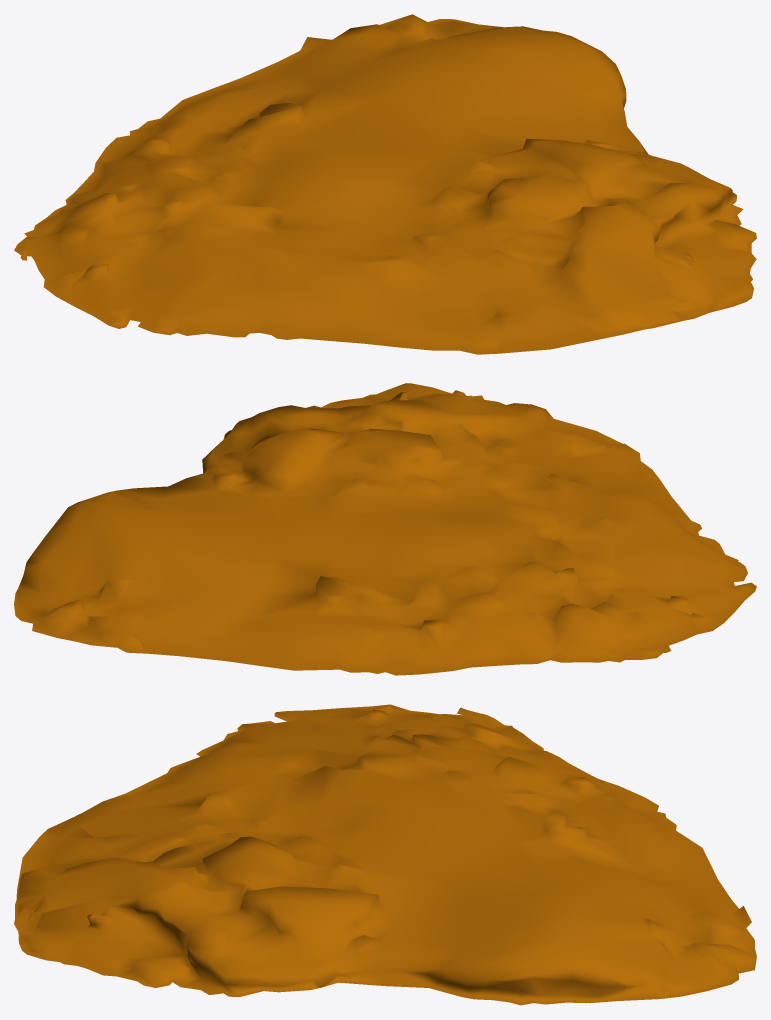
File: Mesh_Ground_05_AG.FBX
3 views of the same model, one above another, from view 1: azimuth 30°, elevation 25°; view 2: azimuth 150°, elevation 25°; view 3: azimuth 270°, elevation 25° (orthographic). The views are drawn at different scales.
Parts seen in each view (by area): view 1: MESH_LOD0; view 2: MESH_LOD0; view 3: MESH_LOD0.
Boxes of the visible parts, x1,y1,x2,y2 form: MESH_LOD0: [14, 14, 756, 354]; MESH_LOD0: [14, 383, 756, 675]; MESH_LOD0: [14, 704, 756, 1005].
Size of what is drawn, in the model's own units: 57.25 by 4.32 by 59.82.
